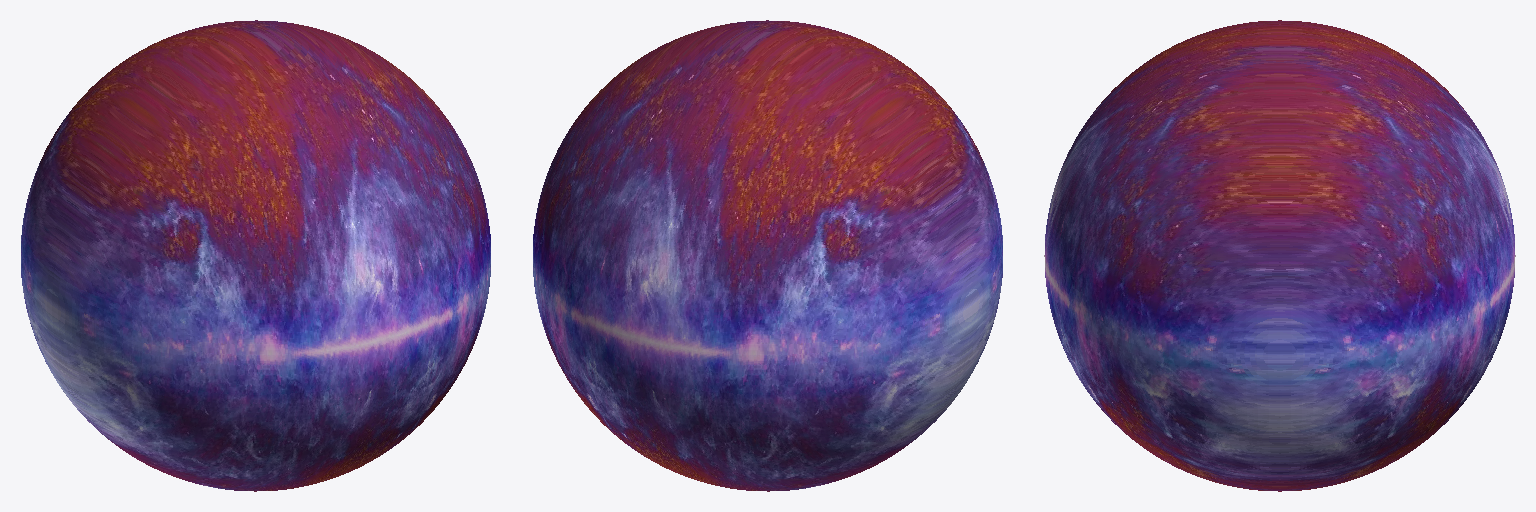
3 renders of one model, left to right at view 1: azimuth 30°, elevation 25°; view 2: azimuth 150°, elevation 25°; view 3: azimuth 270°, elevation 25°, orthographic.
Visible parts, largest first — view 1: Sphere_Sphere.001; view 2: Sphere_Sphere.001; view 3: Sphere_Sphere.001.
Part boxes in pixels (bbox=[...]): Sphere_Sphere.001: bbox=[21, 20, 490, 491]; Sphere_Sphere.001: bbox=[533, 20, 1002, 491]; Sphere_Sphere.001: bbox=[1044, 20, 1515, 491].
Bounding box in the file's own units: 2 × 2 × 2.
1 materials, 1 textured.